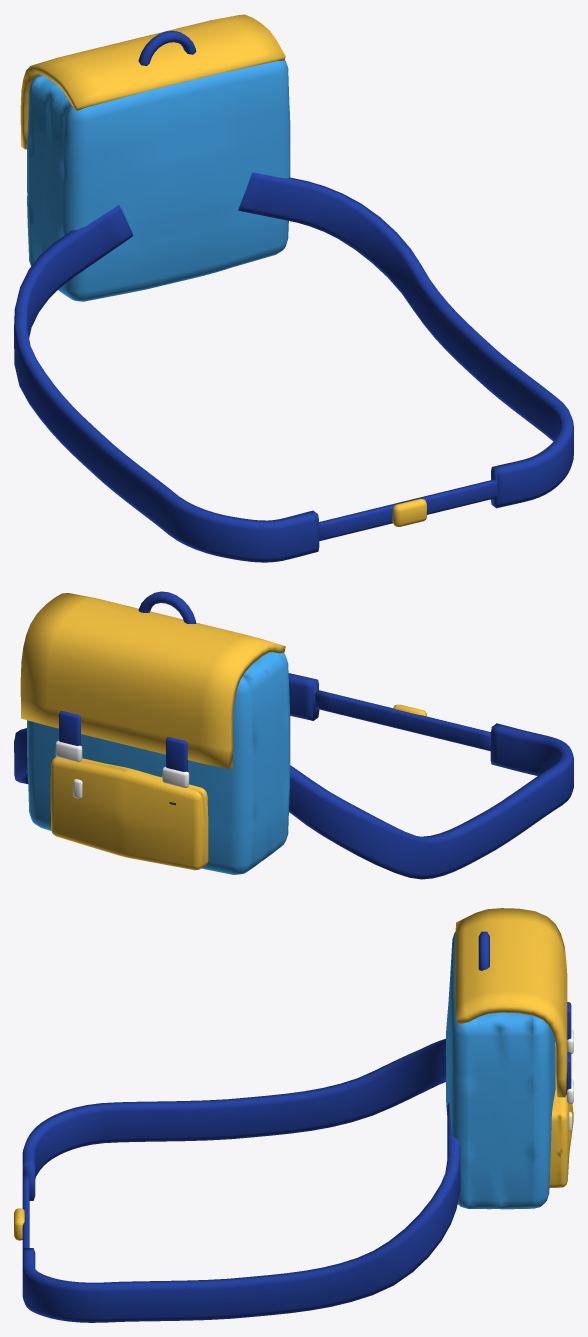
File: backpack-winged.glb
3 renders of one model, top to bottom at view 1: azimuth 30°, elevation 25°; view 2: azimuth 150°, elevation 25°; view 3: azimuth 270°, elevation 25°, orthographic. The views are drawn at different scales.
Parts seen in each view (by area): view 1: pack, strap.001, strap, flap, chest, handle, clip.002; view 2: flap, pack, strap.001, pocketbox, chest, strap, handle, tab, tab.001, clip, clip.001; view 3: pack, strap, strap.001, flap, pocketbox, chest.
Part boxes in pixels (left/top/right/bottom): pack: left=27, top=59, right=290, bottom=301; strap.001: left=14, top=205, right=319, bottom=562; strap: left=238, top=172, right=573, bottom=508; flap: left=20, top=14, right=285, bottom=149; chest: left=319, top=479, right=497, bottom=540; handle: left=138, top=30, right=196, bottom=65; clip.002: left=392, top=499, right=426, bottom=526; flap: left=20, top=593, right=285, bottom=769; pack: left=27, top=652, right=290, bottom=874; strap.001: left=289, top=723, right=573, bottom=879; pocketbox: left=50, top=756, right=208, bottom=870; chest: left=315, top=690, right=490, bottom=751; strap: left=14, top=673, right=319, bottom=783; handle: left=138, top=591, right=196, bottom=623; tab: left=59, top=711, right=80, bottom=745; tab.001: left=166, top=737, right=187, bottom=771; clip: left=55, top=740, right=82, bottom=761; clip.001: left=162, top=767, right=189, bottom=787; pack: left=446, top=932, right=555, bottom=1209; strap: left=22, top=1102, right=460, bottom=1322; strap.001: left=22, top=1038, right=445, bottom=1200; flap: left=455, top=908, right=567, bottom=1097; pocketbox: left=549, top=1047, right=573, bottom=1187; chest: left=22, top=1174, right=29, bottom=1251.
Bounding box in the file's own units: 1.33 × 1.04 × 1.71.
